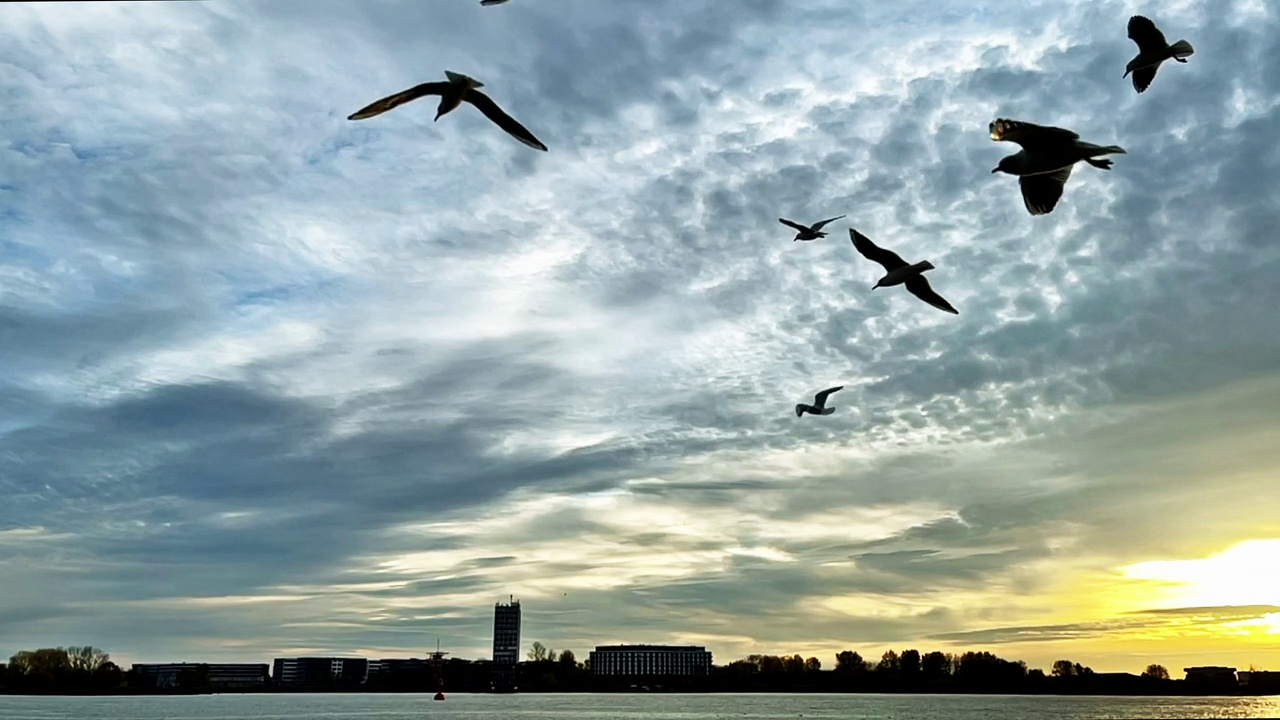bird: (344, 68, 548, 151), (986, 118, 1127, 216), (849, 226, 960, 313), (1123, 15, 1191, 92), (780, 213, 845, 240), (794, 387, 842, 416)
